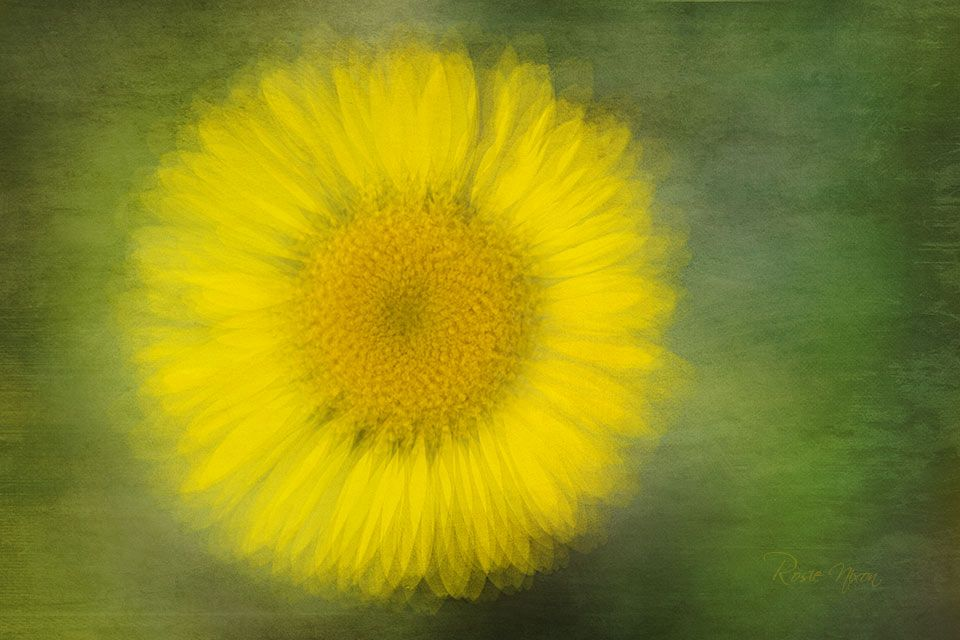dandelion: (146, 126, 670, 566)
